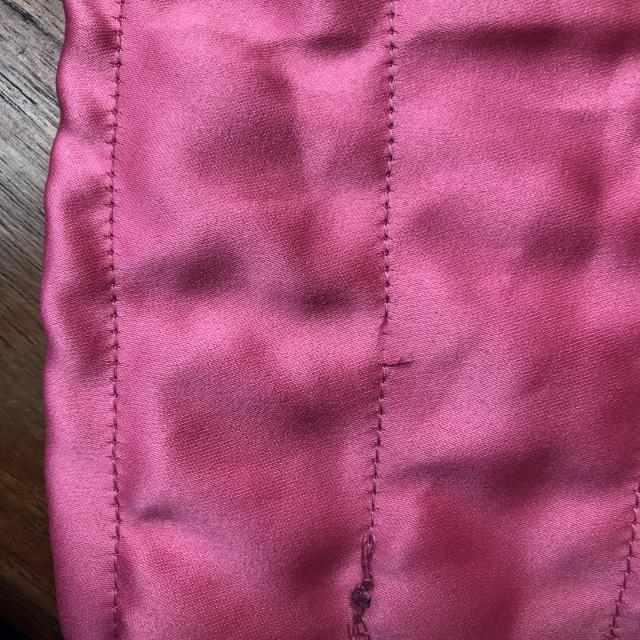broken: (367, 295, 434, 386)
